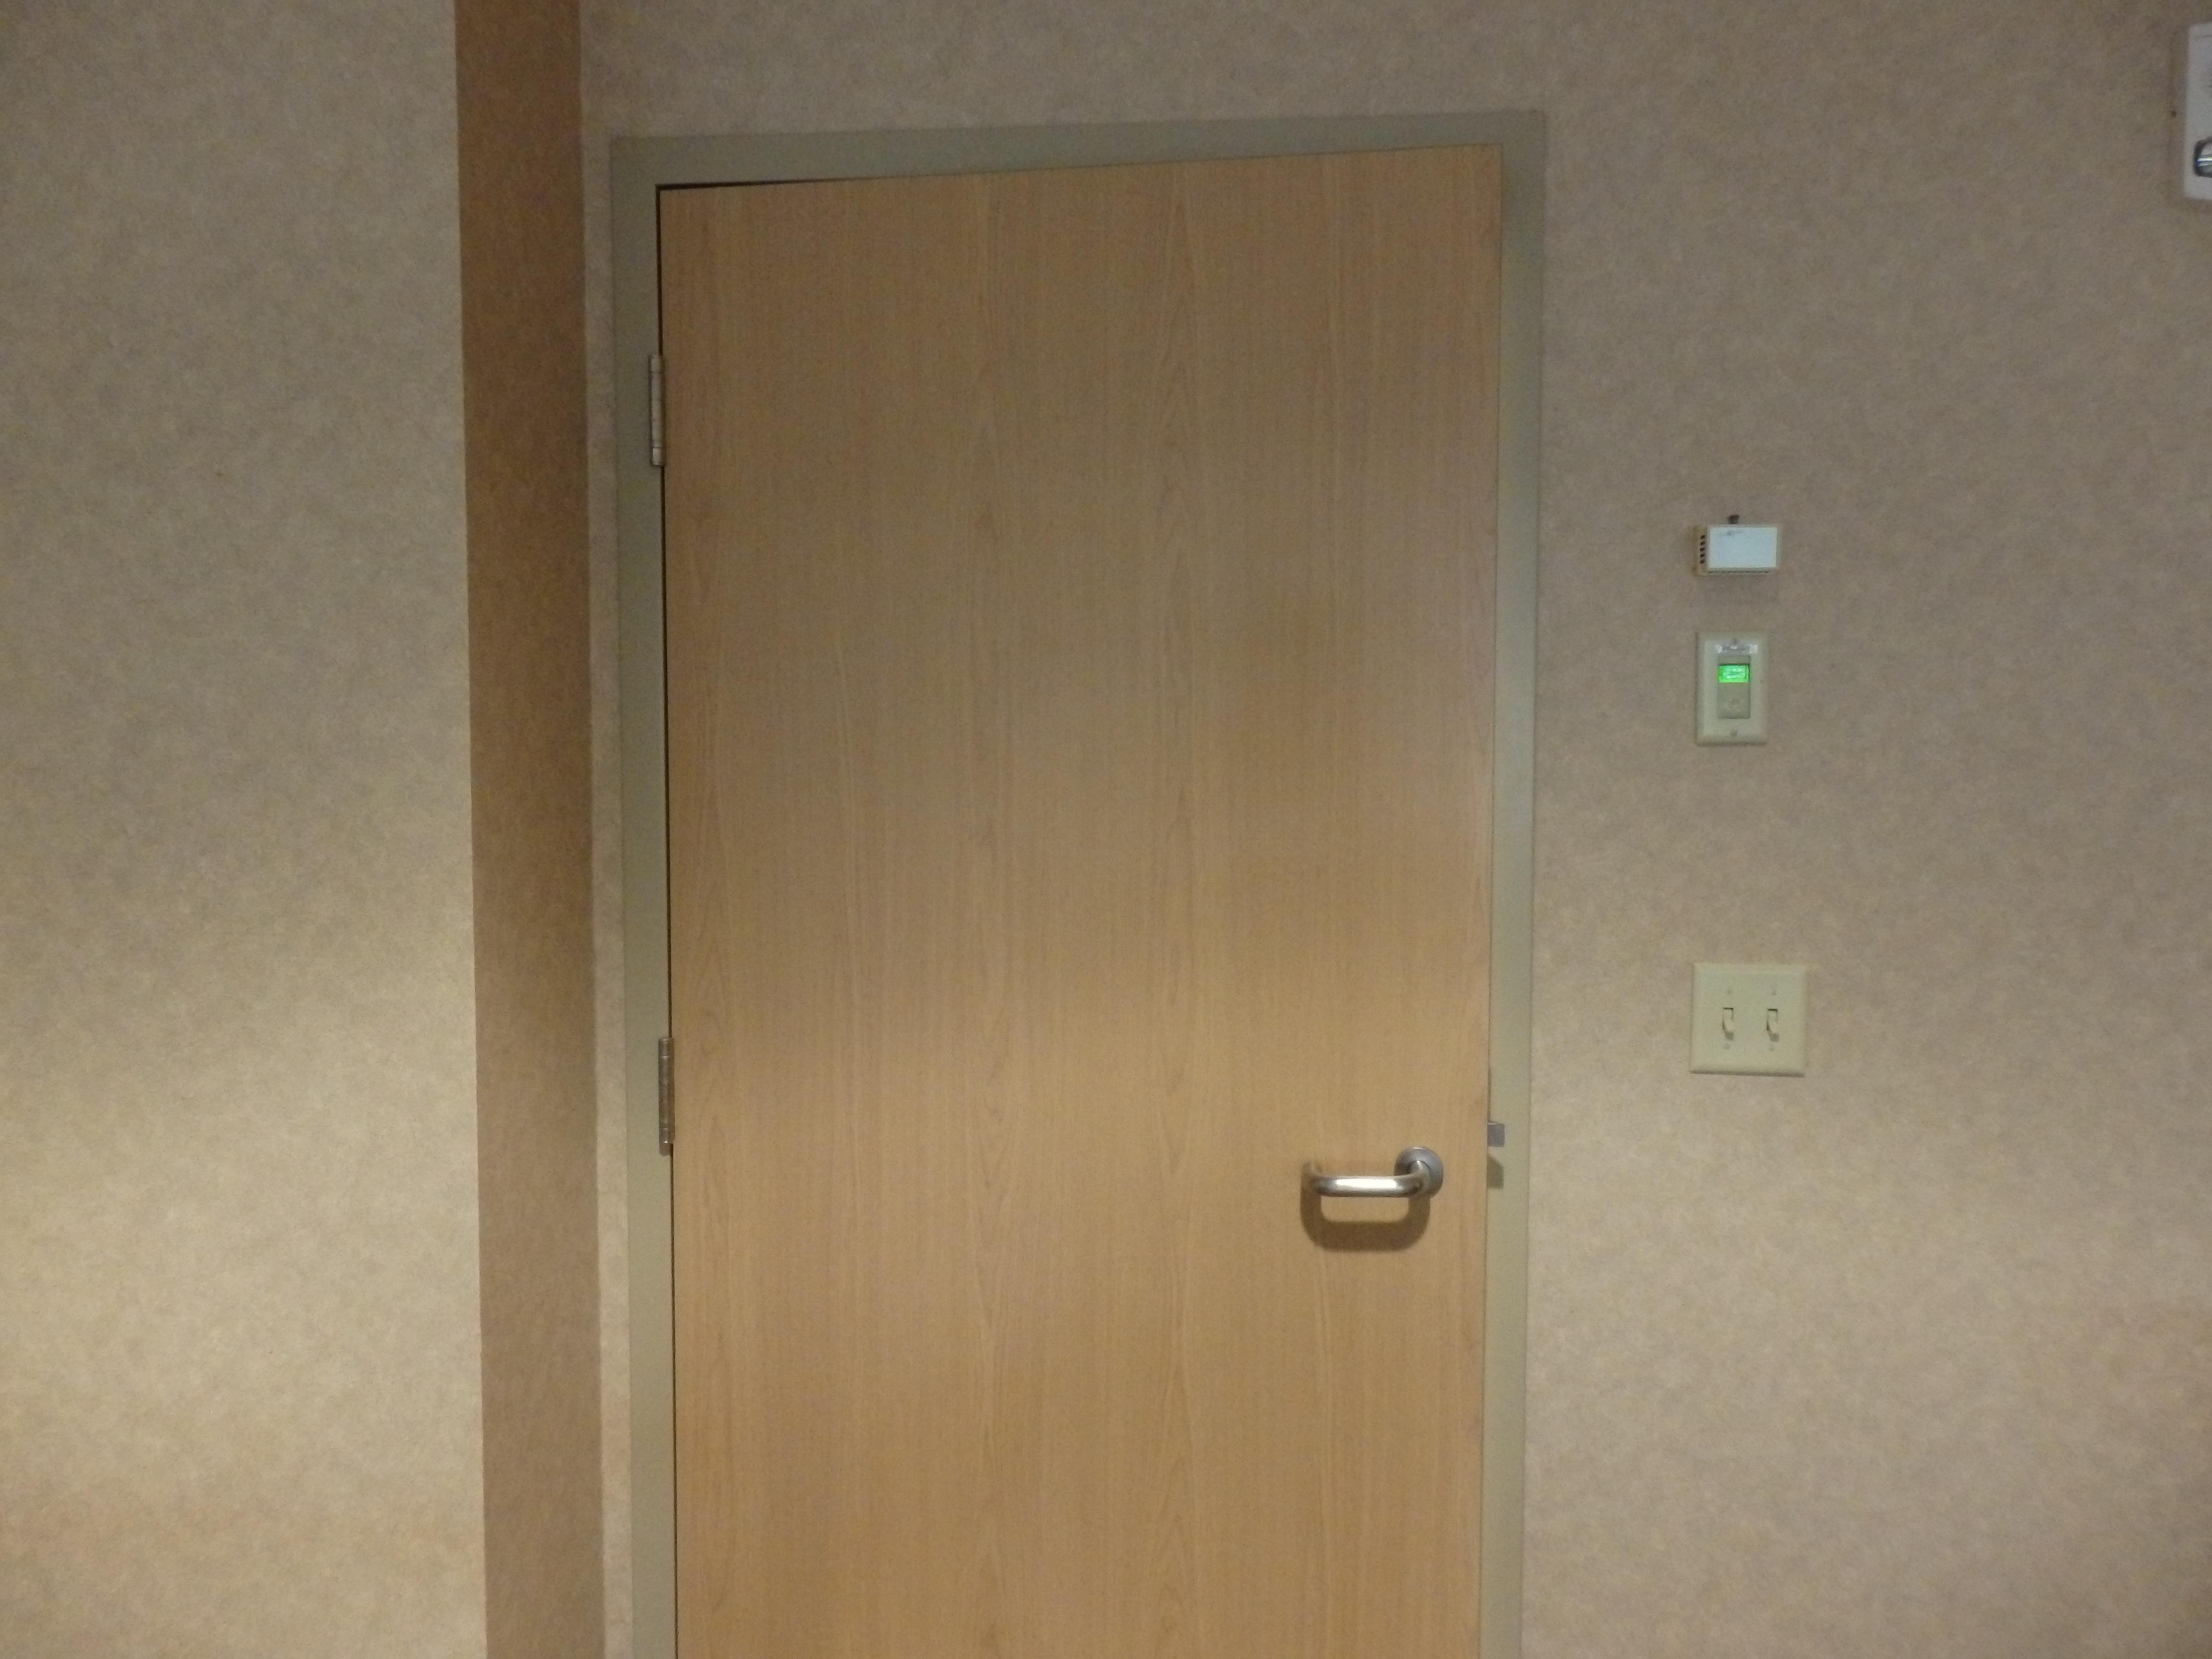door: (610, 113, 1550, 1654)
